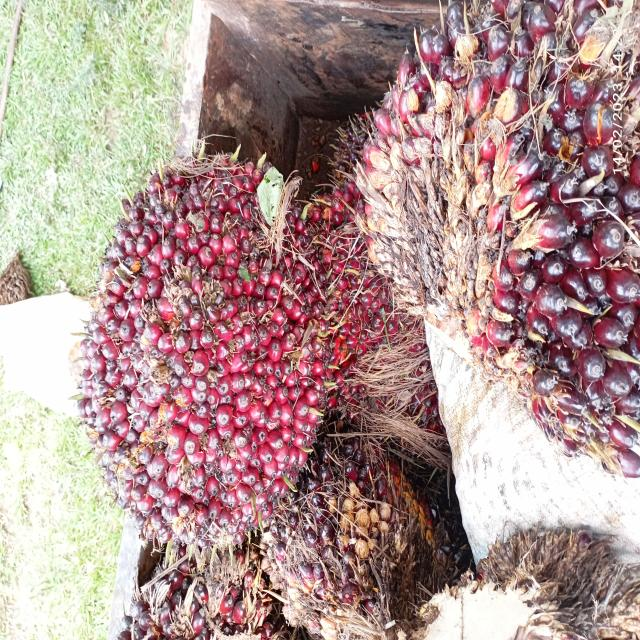fraksi 1: (335, 1, 640, 488)
fraksi 3: (17, 137, 341, 558), (283, 146, 415, 418)
